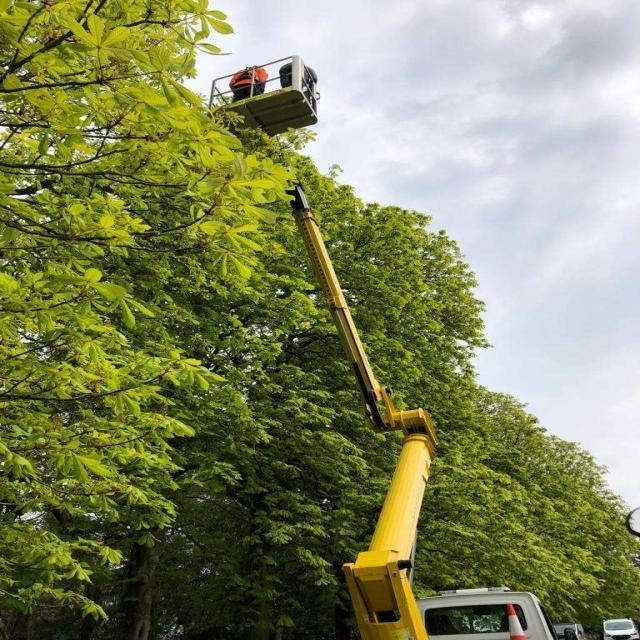Arnes_seguridad: (234, 66, 259, 85)
